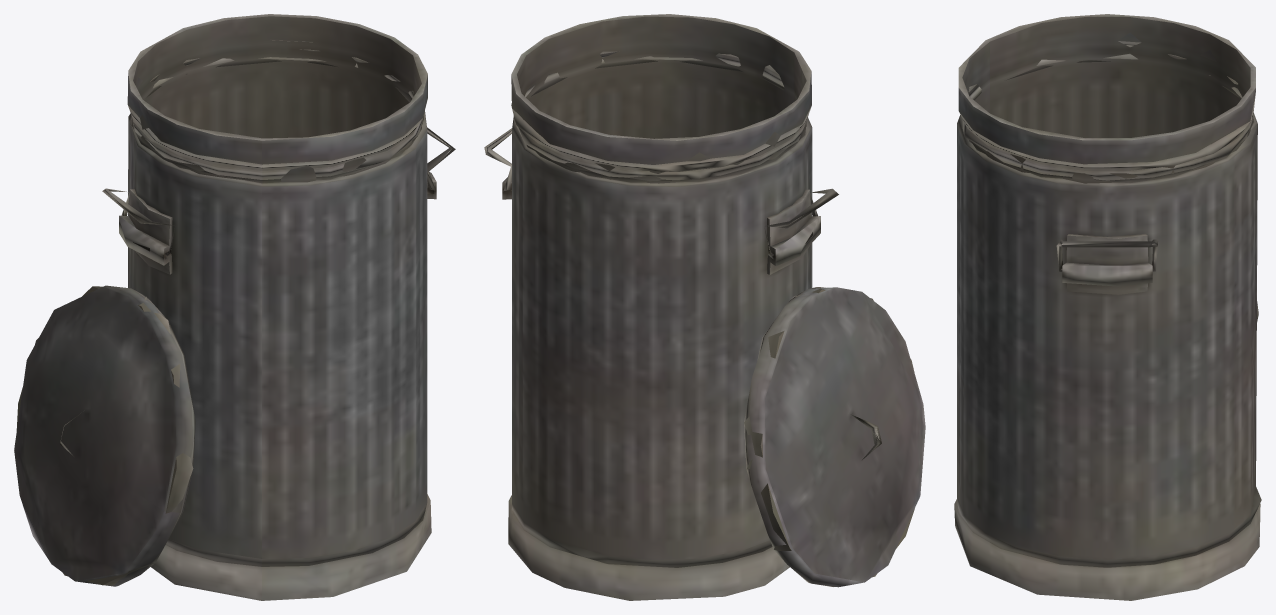
The model's file is metal_trash_can.glb.
The picture shows the model from 3 angles, left to right: view 1: azimuth 30°, elevation 25°; view 2: azimuth 150°, elevation 25°; view 3: azimuth 270°, elevation 25°; orthographic projection.
Parts seen in each view (by area): view 1: metal_trash_can_handle_left; view 2: metal_trash_can_handle_left; view 3: metal_trash_can_handle_left.
Part boxes in pixels (x1,y1,x2,y2): metal_trash_can_handle_left: (14,14,455,600); metal_trash_can_handle_left: (484,14,925,600); metal_trash_can_handle_left: (954,14,1261,600).
Bounding box in the file's own units: 0.7771 × 0.9062 × 0.5502.
1 material, 1 textured.
